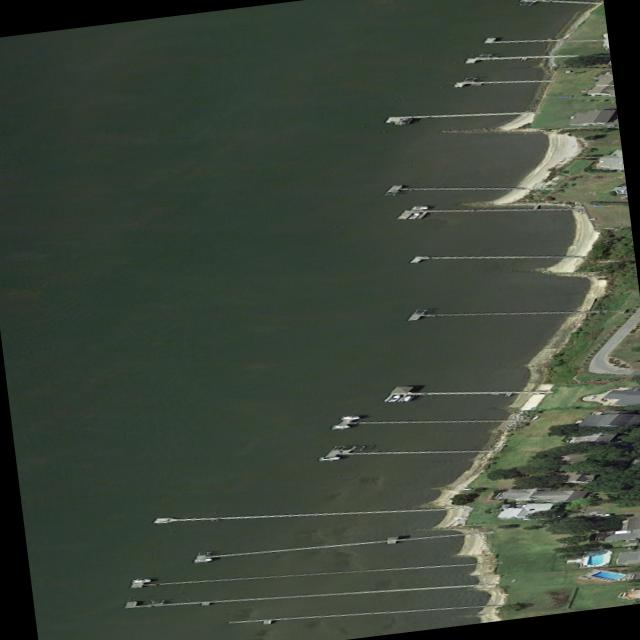ship: (385, 395, 402, 402), (405, 212, 420, 219), (590, 513, 612, 517), (317, 456, 339, 460), (399, 395, 413, 401), (191, 558, 212, 562), (396, 118, 408, 125), (336, 416, 361, 419), (129, 580, 149, 583), (529, 415, 540, 420), (328, 426, 351, 428), (457, 487, 472, 490), (407, 207, 428, 209), (451, 517, 466, 519)
